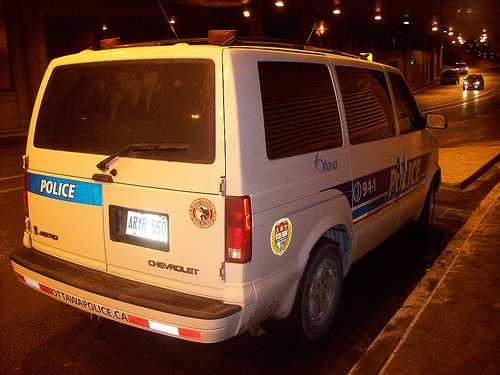Ambulance: (17, 46, 442, 332)
